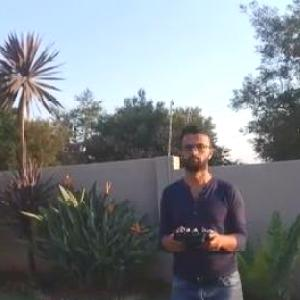follow: (154, 118, 257, 299)
